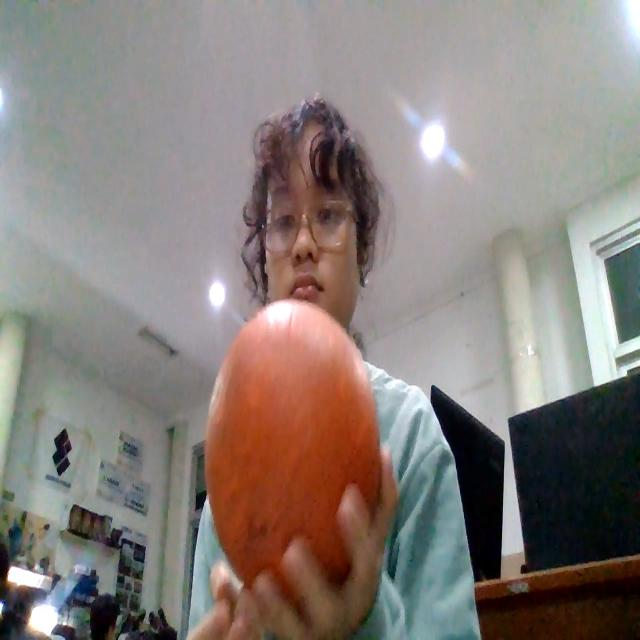ball: (204, 297, 383, 599)
